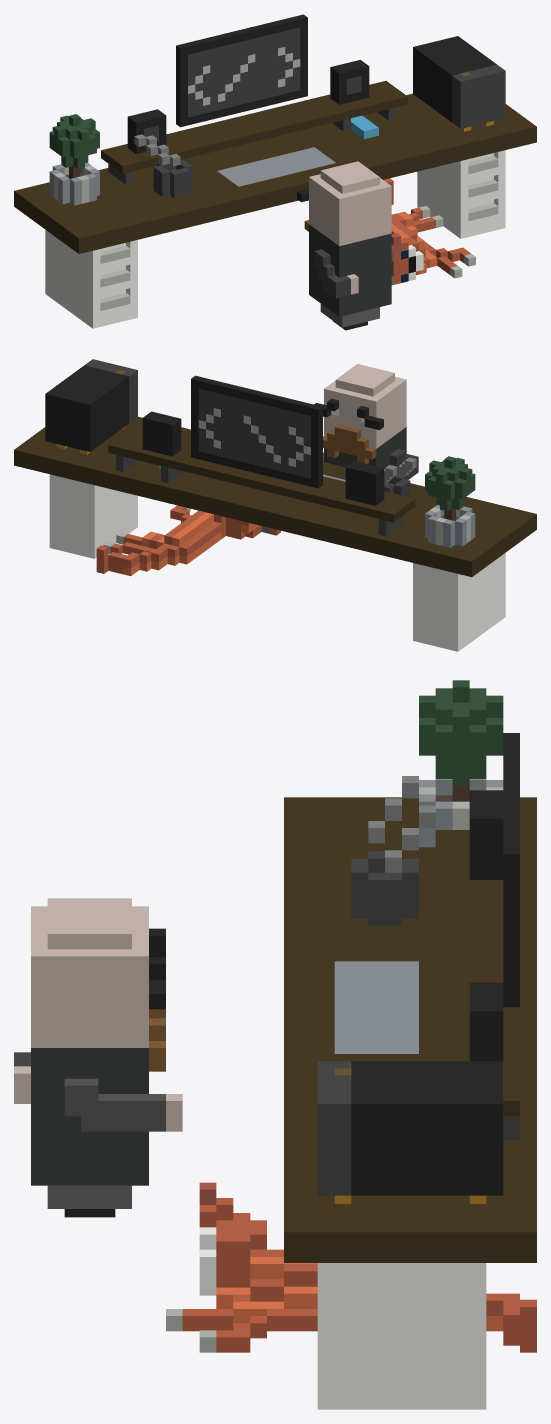
File: myRoom.glb
The picture shows the model from 3 angles, top to bottom: view 1: azimuth 30°, elevation 25°; view 2: azimuth 150°, elevation 25°; view 3: azimuth 270°, elevation 25°; orthographic projection. The views are drawn at different scales.
Parts seen in each view (by area): view 1: ViktorRoomWithSigge.001; view 2: ViktorRoomWithSigge.001; view 3: ViktorRoomWithSigge.001.
Part boxes in pixels (x1,y1,x2,y2): ViktorRoomWithSigge.001: [14, 14, 536, 330]; ViktorRoomWithSigge.001: [14, 359, 536, 651]; ViktorRoomWithSigge.001: [14, 680, 536, 1409].
Bounding box in the file's own units: 6.1 × 2.7 × 3.1.
1 material, 1 textured.
